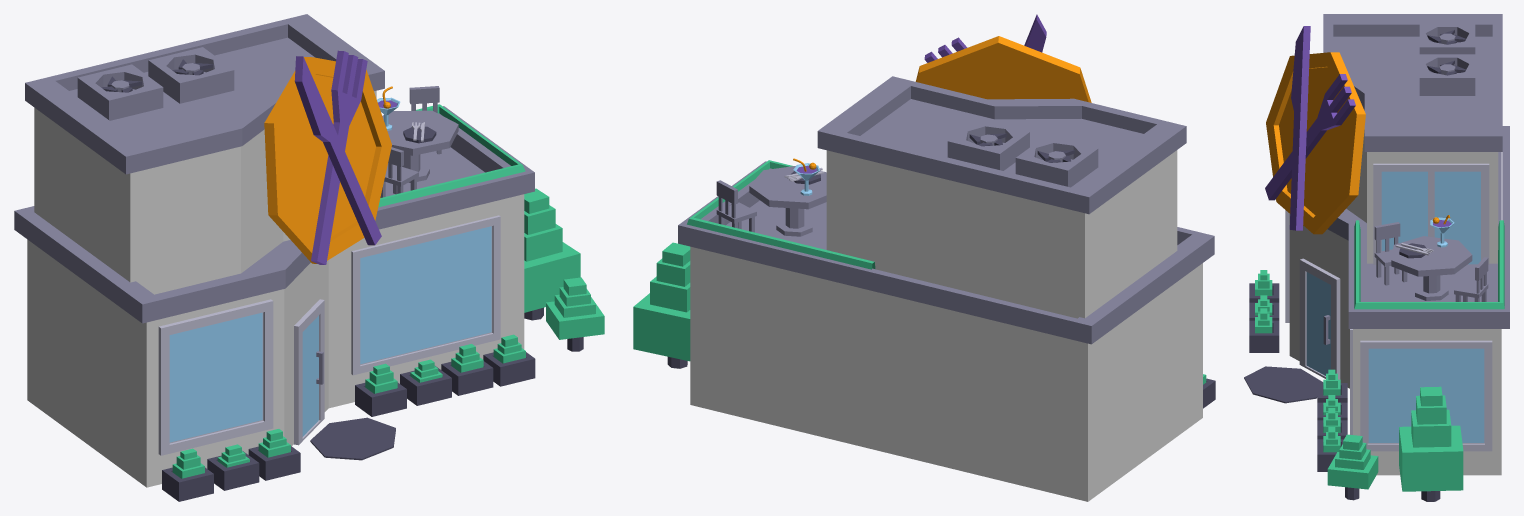
Rendered from Resturant.glb.
3 renders of one model, left to right at view 1: azimuth 30°, elevation 25°; view 2: azimuth 150°, elevation 25°; view 3: azimuth 270°, elevation 25°, orthographic. The views are drawn at different scales.
Parts seen in each view (by area): view 1: Cube.525, Cube.526, Cube.832, Cube.833, Circle.207, Cube.829, Cube.830, Plane.029, Cube.831, Cube.527, Cube.819, Cube.824 (+14 smaller); view 2: Cube.525, Cube.526, Cube.829, Cube.830, Circle.207, Cube.993, Cube.819, Cube.824, Cube.1132, Circle.399, Cube.994, Cube.995; view 3: Cube.525, Cube.526, Cube.528, Circle.207, Cube.829, Cube.835, Cube.830, Cube.831, Cube.993, Cube.527, Plane.029, Cube.1132 (+22 smaller).
Part boxes in pixels (x1,y1,x2,y2): Cube.525: [27, 147, 524, 487]; Cube.526: [34, 37, 376, 294]; Cube.832: [351, 215, 500, 375]; Cube.833: [158, 299, 273, 455]; Circle.207: [264, 57, 391, 263]; Cube.829: [25, 14, 384, 174]; Cube.830: [14, 106, 534, 323]; Plane.029: [311, 50, 367, 264]; Cube.831: [294, 299, 324, 445]; Cube.527: [294, 56, 381, 245]; Cube.819: [77, 64, 163, 120]; Cube.824: [148, 47, 234, 103]; Cube.525: [690, 200, 1202, 501]; Cube.526: [826, 99, 1177, 318]; Cube.829: [817, 76, 1186, 214]; Cube.830: [678, 161, 1214, 344]; Circle.207: [915, 36, 1091, 102]; Cube.993: [633, 293, 690, 361]; Cube.819: [1015, 136, 1098, 187]; Cube.824: [947, 119, 1029, 170]; Cube.1132: [687, 160, 875, 269]; Circle.399: [749, 166, 826, 209]; Cube.994: [650, 276, 690, 312]; Cube.995: [656, 258, 690, 286]; Cube.525: [1289, 152, 1501, 475]; Cube.526: [1333, 36, 1498, 263]; Cube.528: [1360, 340, 1492, 451]; Circle.207: [1266, 52, 1365, 234]; Cube.829: [1323, 14, 1502, 151]; Cube.835: [1373, 163, 1489, 264]; Cube.830: [1327, 126, 1509, 328]; Cube.831: [1299, 258, 1340, 379]; Cube.993: [1399, 425, 1463, 491]; Cube.527: [1289, 26, 1310, 230]; Plane.029: [1265, 74, 1355, 200]; Cube.1132: [1354, 220, 1504, 309].
Size of the model in its own units: 6.22 by 4.53 by 3.19.
